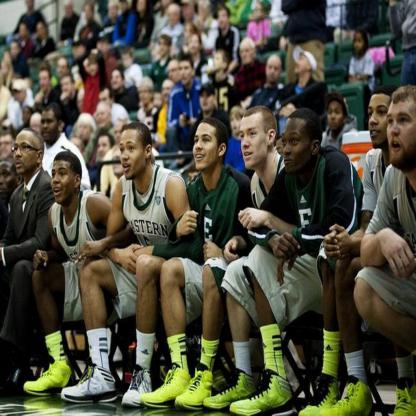face: (388, 104, 416, 167), (282, 124, 312, 173), (241, 121, 269, 169), (368, 97, 393, 147), (120, 134, 147, 179), (195, 127, 221, 172), (53, 164, 76, 203), (14, 138, 38, 174), (1, 163, 18, 202), (41, 112, 59, 142), (329, 104, 345, 129), (201, 88, 215, 110), (231, 111, 244, 134), (267, 61, 281, 82), (294, 54, 310, 72), (99, 139, 111, 161), (180, 62, 192, 82), (78, 121, 91, 139), (96, 108, 108, 127), (14, 85, 26, 104), (242, 44, 253, 64), (139, 87, 151, 104), (61, 79, 73, 96), (121, 54, 133, 71), (89, 57, 99, 77), (40, 73, 50, 92), (74, 41, 84, 60), (111, 72, 122, 89), (214, 52, 224, 70), (184, 1, 194, 19), (355, 34, 364, 53), (163, 84, 173, 101), (159, 39, 169, 56), (101, 94, 111, 111), (57, 62, 67, 79), (219, 12, 229, 28), (169, 64, 178, 80), (190, 37, 199, 53), (39, 24, 48, 40), (10, 43, 19, 59), (255, 6, 265, 20), (24, 109, 33, 124), (20, 24, 28, 38), (121, 1, 131, 12), (65, 3, 72, 17), (110, 4, 117, 18), (85, 7, 93, 19), (170, 10, 178, 21), (138, 1, 146, 12)
